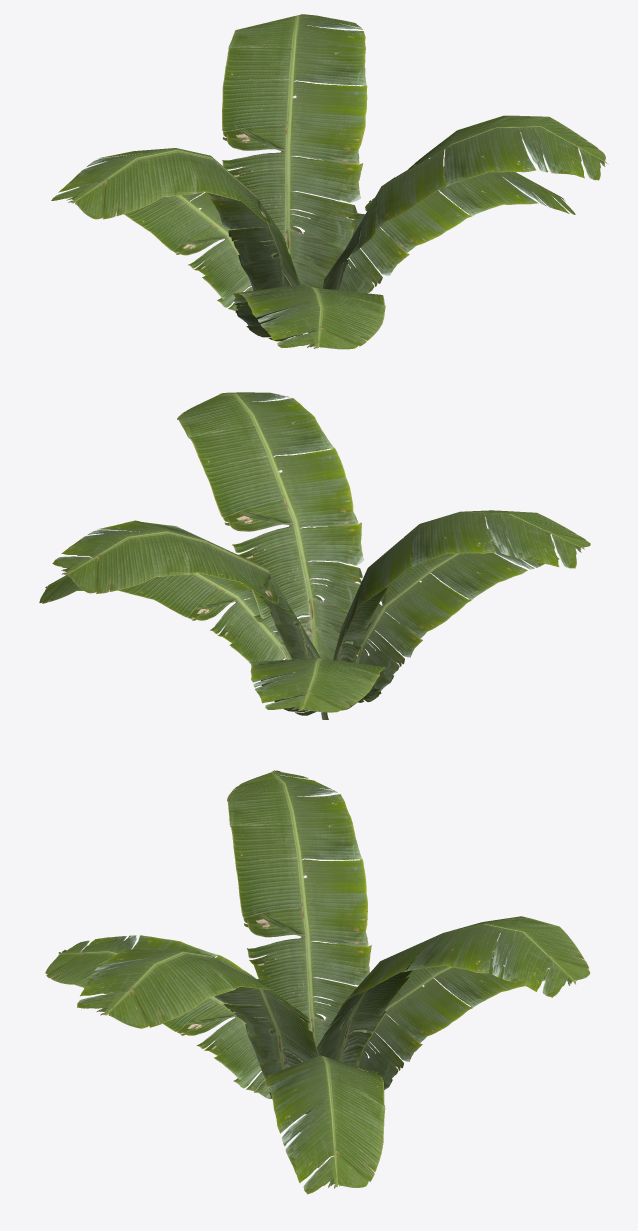
Rendered from Plant.fbx.
3 renders of one model, top to bottom at view 1: azimuth 30°, elevation 25°; view 2: azimuth 150°, elevation 25°; view 3: azimuth 270°, elevation 25°, orthographic. The views are drawn at different scales.
Parts seen in each view (by area): view 1: trop_leav 4_0; view 2: trop_leav 4_0; view 3: trop_leav 4_0.
Part boxes in pixels (<box>): trop_leav 4_0: <box>51,14,608,349</box>; trop_leav 4_0: <box>39,392,590,719</box>; trop_leav 4_0: <box>45,770,590,1194</box>.
Size of the model in its own units: 435 by 179 by 397.
